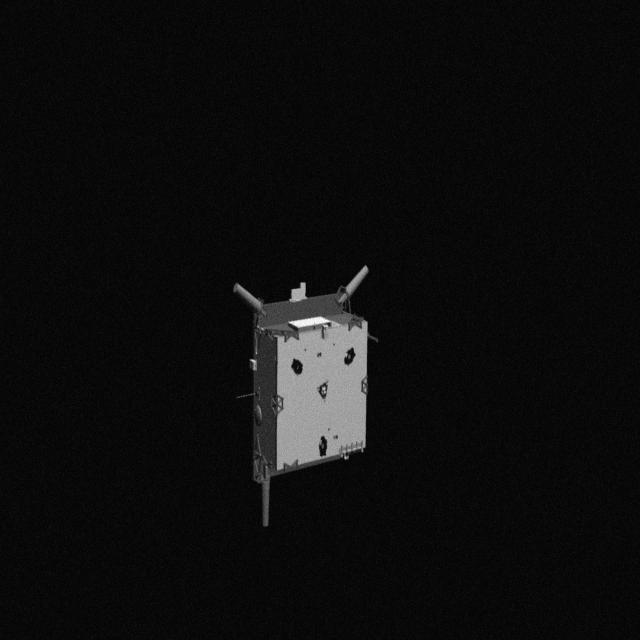medium_debris: (226, 262, 382, 528)
